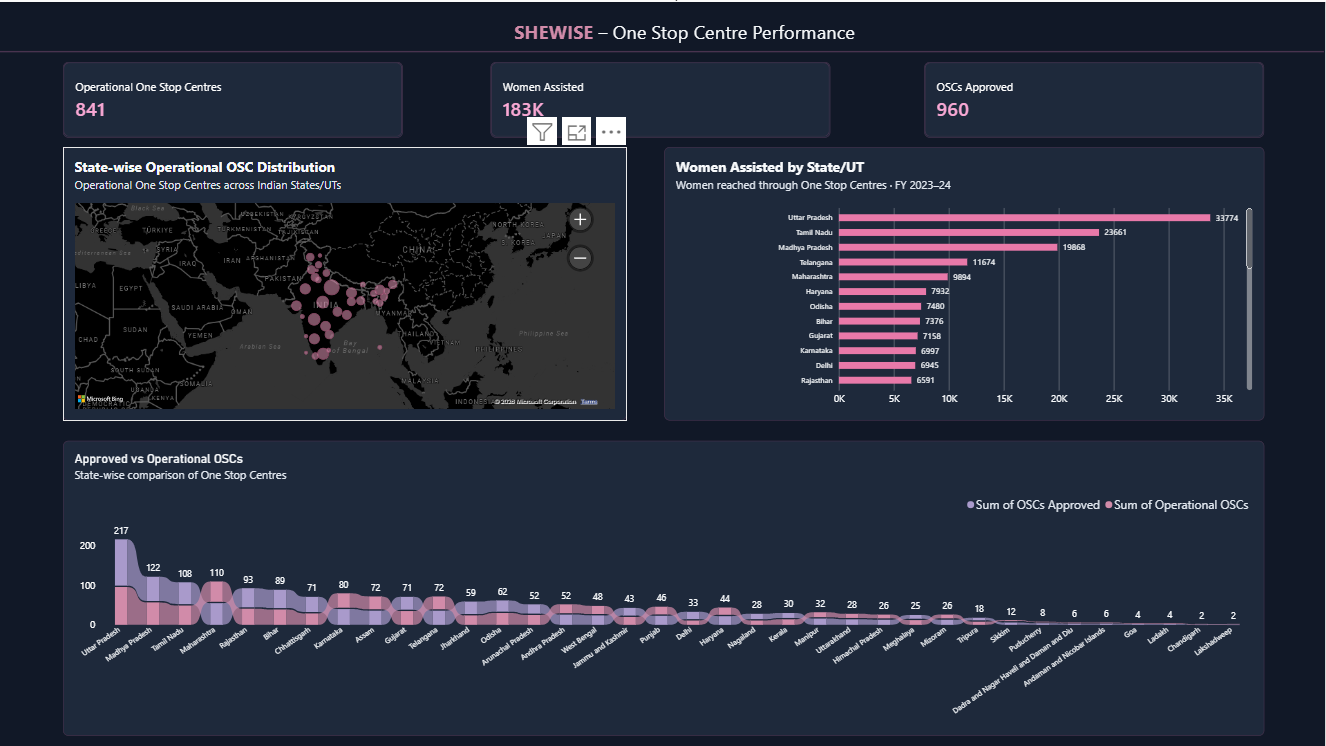

Layout of this report page (visuals, bound fields, positions):
{"tool":"powerbi","page":{"name":"One Stop Centre Performance","canvas":[1920,1080],"ordinal":2},"visuals":[{"type":"cardVisual","fields":{"Data":["Sum(PowerBI_Ready (3).Operational OSCs)"]},"box":[94.1,86.3,492.2,109.8],"z":0},{"type":"cardVisual","fields":{"Data":["Sum(PowerBI_Ready (3).Women Assisted – FY 2023-24)"]},"box":[713.7,86.3,492.2,109.8],"z":1000},{"type":"cardVisual","fields":{"Data":["Sum(PowerBI_Ready (3).OSCs Approved)"]},"box":[1341.2,86.3,492.2,109.8],"z":2000},{"type":"map","title":"State-wise Operational OSC Distribution","fields":{"Category":["PowerBI_Ready (3).State/UT"],"Size":["Sum(PowerBI_Ready (3).Operational OSCs)"]},"box":[94.1,209.8,815.7,396.1],"z":3000},{"type":"clusteredBarChart","title":"Women Assisted by State/UT","fields":{"Category":["PowerBI_Ready (3).State/UT"],"Y":["Sum(PowerBI_Ready (3).Women Assisted – FY 2023-24)"]},"box":[964.7,209.8,868.6,396.1],"z":4000},{"type":"ribbonChart","title":"Approved vs Operational OSCs","fields":{"Category":["PowerBI_Ready (3).State/UT"],"Y":["Sum(PowerBI_Ready (3).OSCs Approved)","Sum(PowerBI_Ready (3).Operational OSCs)"]},"box":[94.1,635.3,1739.2,427.5],"z":5000},{"type":"textbox","box":[747.1,25.5,515.7,60.8],"z":6000},{"type":"shape","box":[0,43.1,1919.6,56.9],"z":7000}]}

Visuals, with their boxes in screenshot pixels (x1, y1, x2, y2), scaled from the page's 1920x1080 canvas onto the 1326x746 screenshot:
cardVisual - Sum(PowerBI_Ready (3).Operational OSCs): <bbox>65, 60, 405, 135</bbox>
cardVisual - Sum(PowerBI_Ready (3).Women Assisted – FY 2023-24): <bbox>493, 60, 833, 135</bbox>
cardVisual - Sum(PowerBI_Ready (3).OSCs Approved): <bbox>926, 60, 1266, 135</bbox>
"State-wise Operational OSC Distribution" map: <bbox>65, 145, 628, 419</bbox>
"Women Assisted by State/UT" clusteredBarChart: <bbox>666, 145, 1266, 419</bbox>
"Approved vs Operational OSCs" ribbonChart: <bbox>65, 439, 1266, 734</bbox>
textbox: <bbox>516, 18, 872, 60</bbox>
shape: <bbox>0, 30, 1325, 69</bbox>
